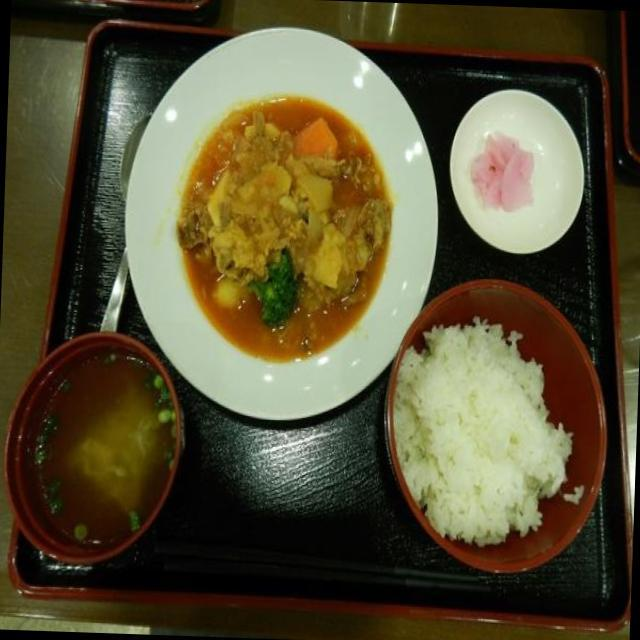Rice: (390, 312, 576, 540)
